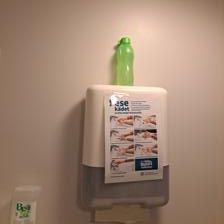bottle: (111, 32, 136, 90)
